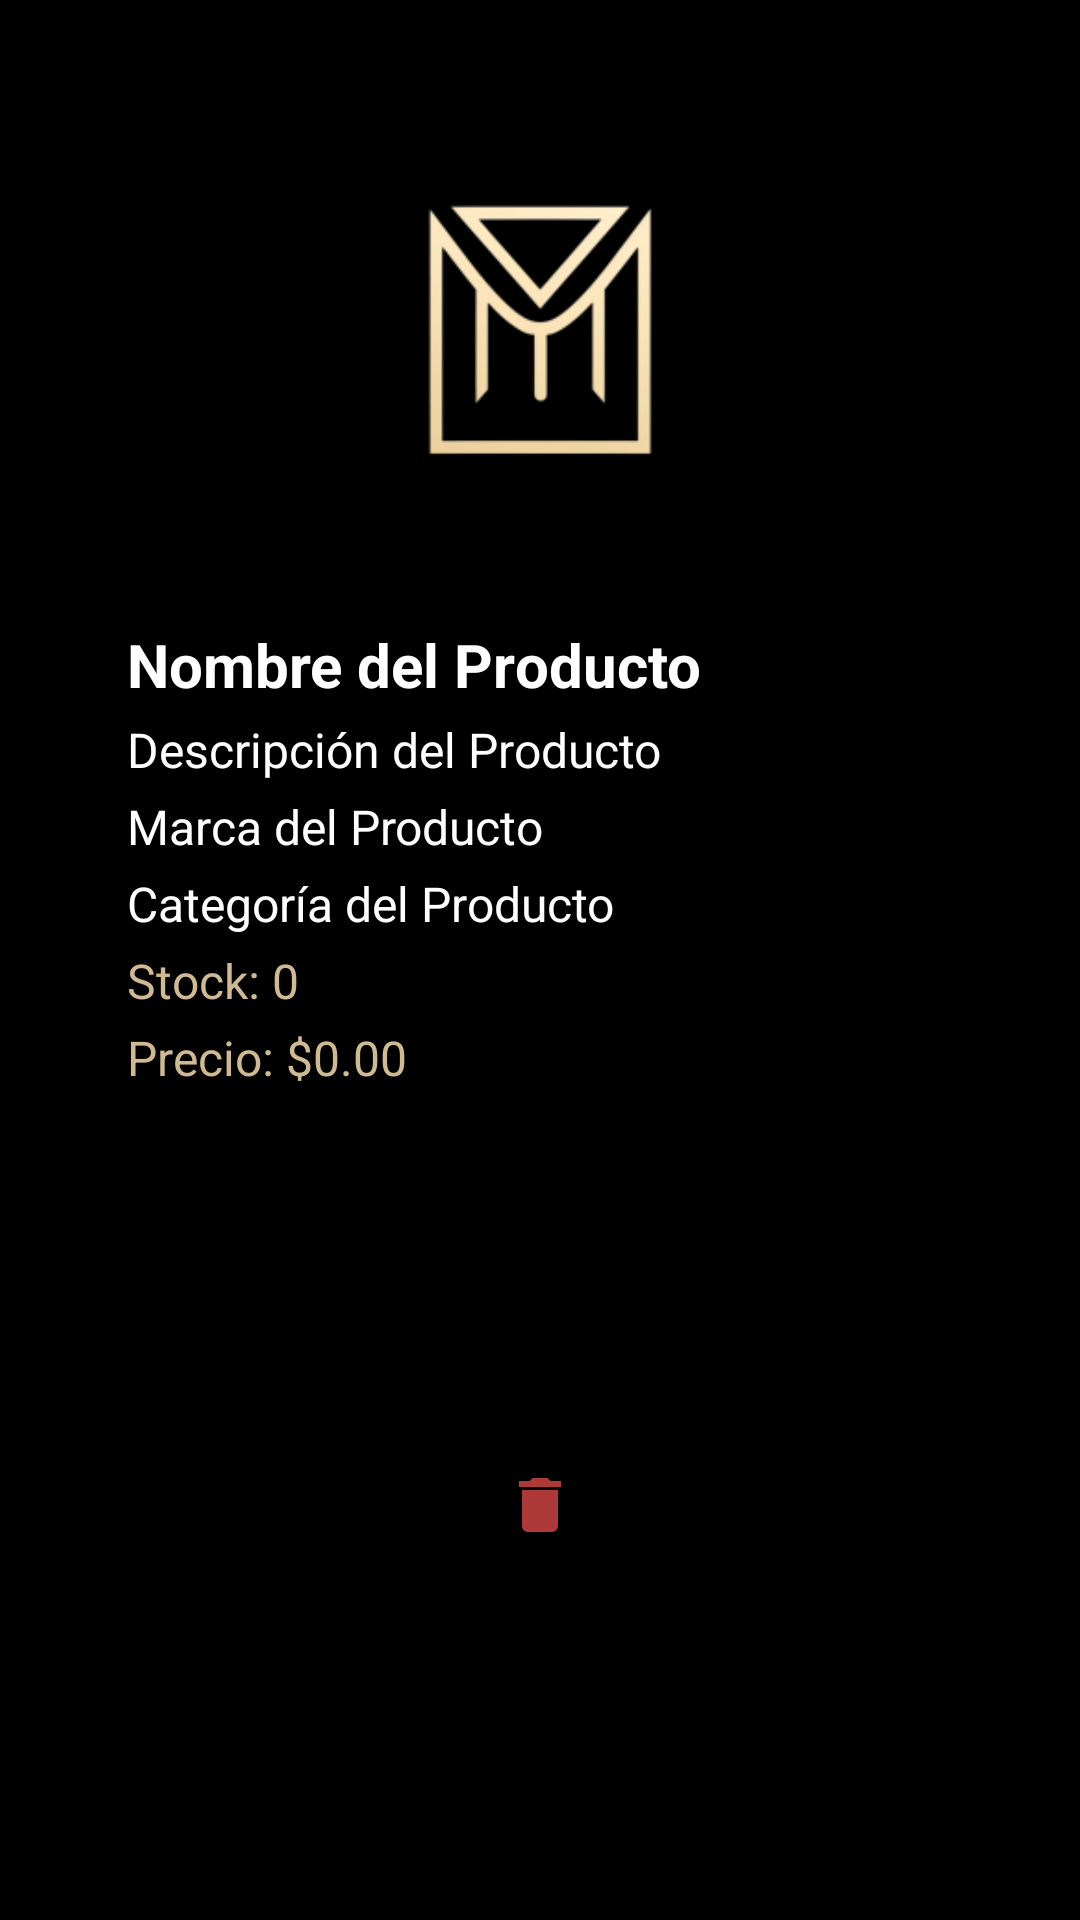

Locate icon controls on the screen. Image size 1080w x 1920h, boxes as (x1, y1, x2, y2).
Eliminar del carrito: (519, 1478, 561, 1532)
